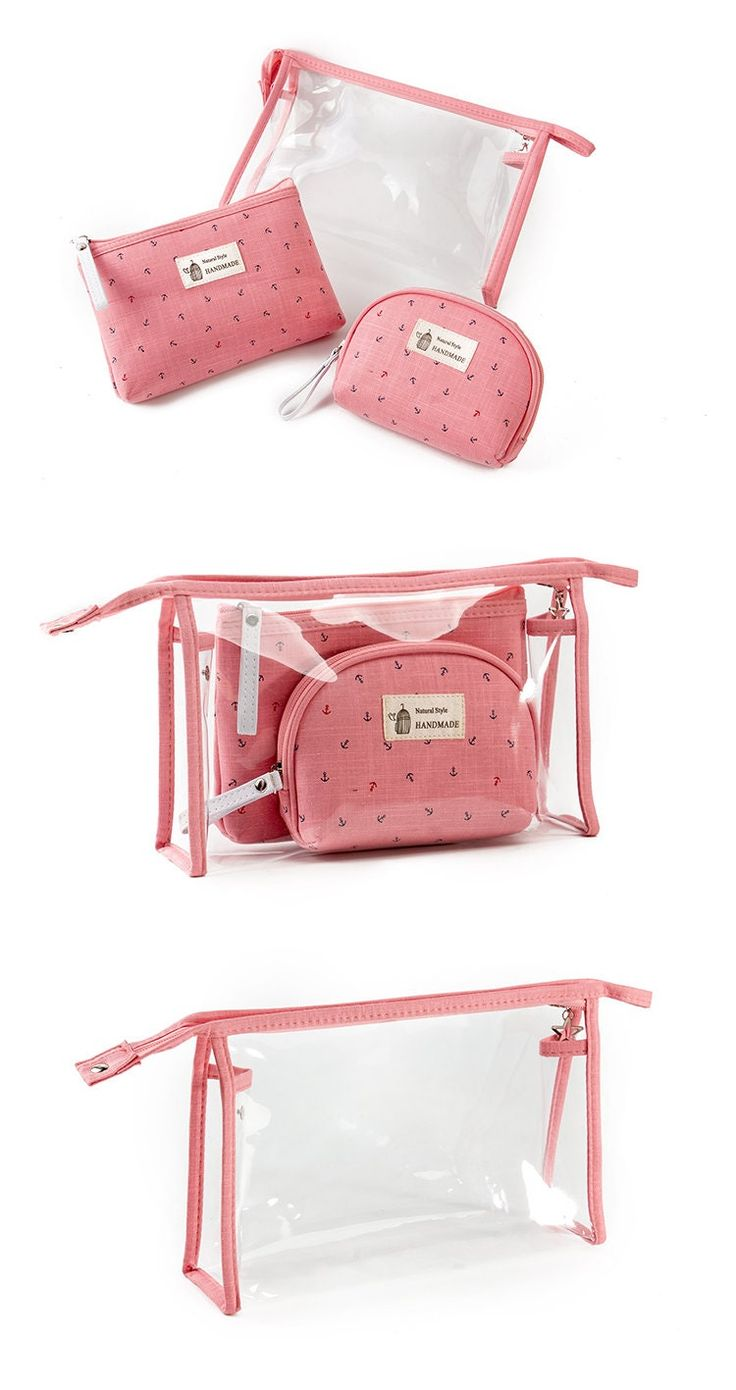nylon: (73, 55, 652, 1318)
